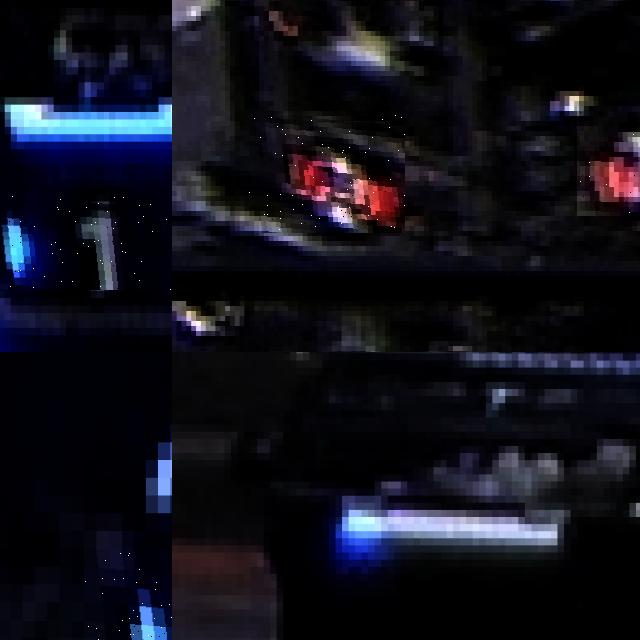B1: (0, 193, 172, 290), (84, 548, 172, 640)
R2: (249, 114, 405, 234), (576, 106, 640, 216)
